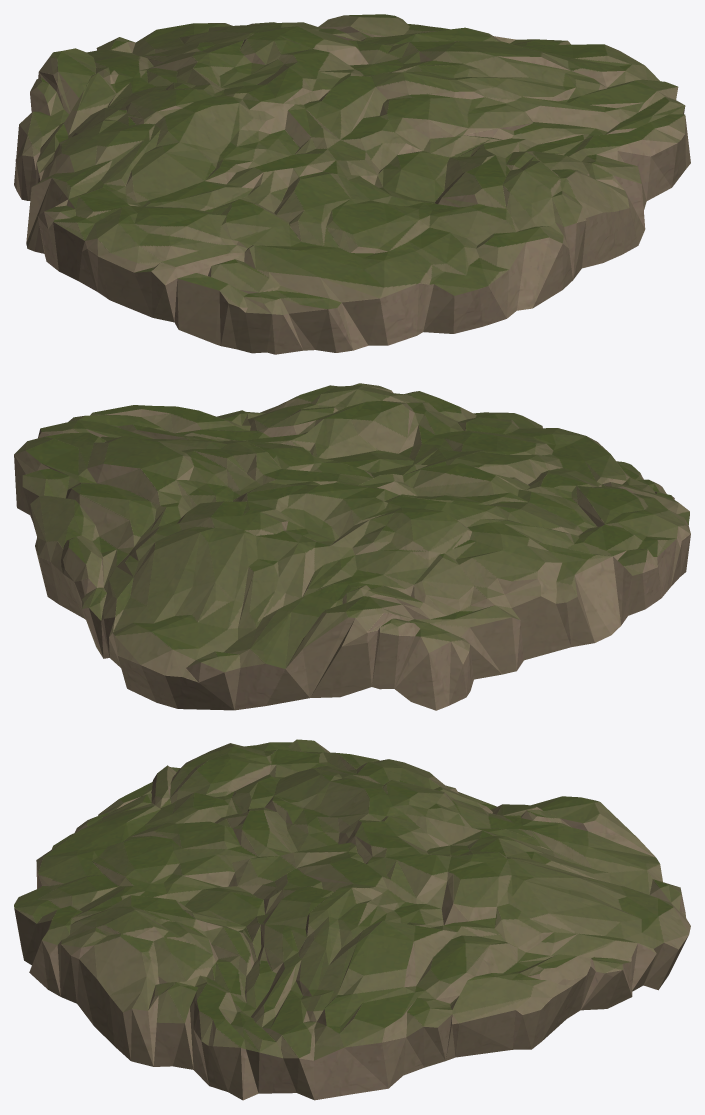
File: SM_Env_Rock_Ground_01.glb
The picture shows the model from 3 angles, top to bottom: view 1: azimuth 30°, elevation 25°; view 2: azimuth 150°, elevation 25°; view 3: azimuth 270°, elevation 25°; orthographic projection. The views are drawn at different scales.
Visible parts, largest first — view 1: SM_Env_Rock_Ground_01; view 2: SM_Env_Rock_Ground_01; view 3: SM_Env_Rock_Ground_01.
Part boxes in pixels (bbox=[...]): SM_Env_Rock_Ground_01: bbox=[14, 14, 690, 354]; SM_Env_Rock_Ground_01: bbox=[14, 383, 690, 710]; SM_Env_Rock_Ground_01: bbox=[14, 739, 690, 1100].
Bounding box in the file's own units: 21.21 × 4.02 × 20.35.
1 material, 1 textured.
